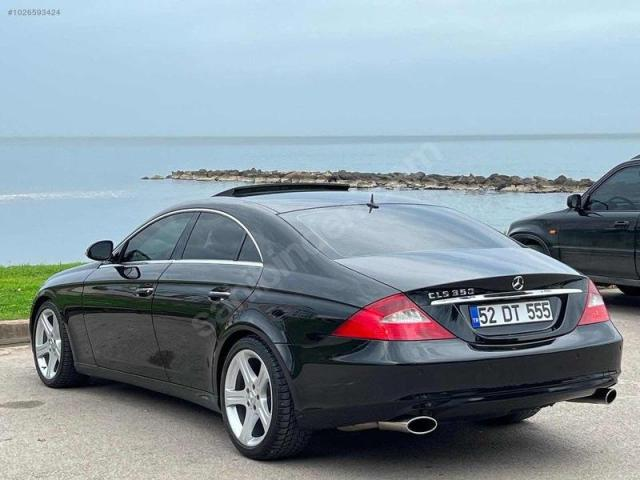plaka: (470, 299, 554, 328)
